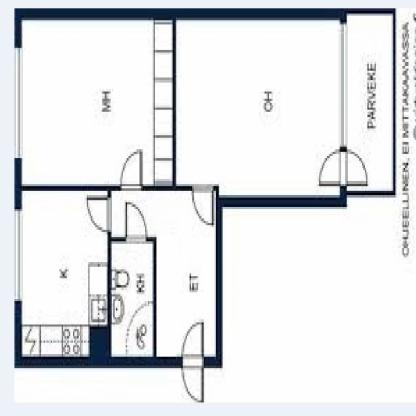door: (180, 317, 206, 404), (321, 145, 367, 187), (119, 145, 144, 191), (192, 185, 216, 229), (86, 195, 111, 235), (124, 201, 147, 244)
window: (340, 25, 349, 144), (14, 48, 22, 157), (14, 209, 22, 304)
zone: (174, 19, 342, 199), (23, 19, 172, 186), (112, 190, 216, 358), (19, 190, 106, 358), (346, 11, 393, 191), (110, 240, 151, 354)
